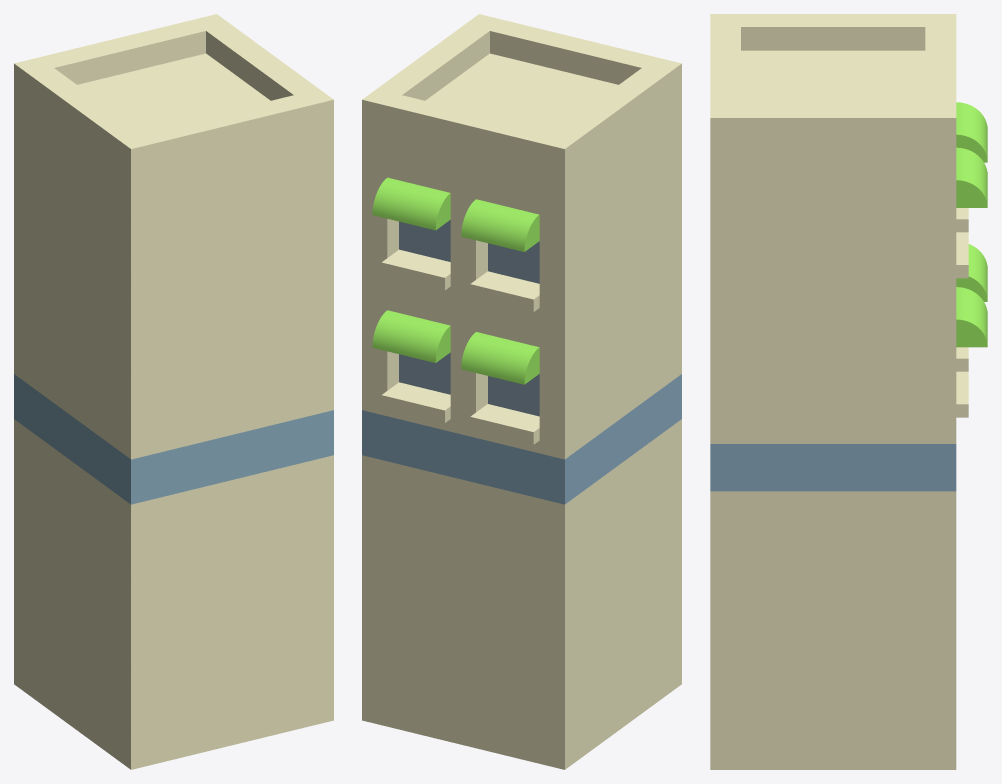
Rendered from SM_Building_04.fbx.
3 views of the same model, side by side, from view 1: azimuth 30°, elevation 25°; view 2: azimuth 150°, elevation 25°; view 3: azimuth 270°, elevation 25° (orthographic). The views are drawn at different scales.
Visible parts, largest first — view 1: SM_Building_04; view 2: SM_Building_04; view 3: SM_Building_04.
Boxes of the visible parts, x1,y1,x2,y2 form: SM_Building_04: (14, 14, 333, 769); SM_Building_04: (362, 14, 681, 769); SM_Building_04: (710, 14, 987, 769).
Bounding box in the file's own units: 400 × 1170 × 451.
